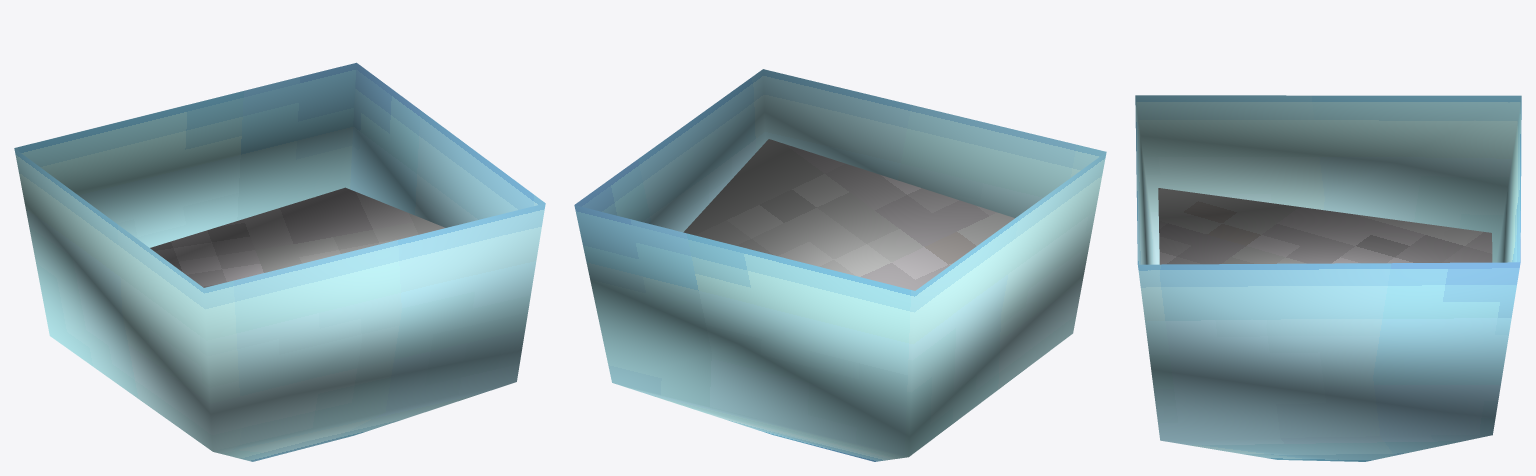
Rendered from eqp_medic_powder_s01_l2.fbx.
The picture shows the model from 3 angles, left to right: view 1: azimuth 30°, elevation 25°; view 2: azimuth 150°, elevation 25°; view 3: azimuth 270°, elevation 25°; orthographic projection.
Visible parts, largest first — view 1: mesh_node; view 2: mesh_node; view 3: mesh_node.
Boxes of the visible parts, bbox=[...] form: mesh_node: bbox=[14, 62, 545, 461]; mesh_node: bbox=[574, 69, 1106, 461]; mesh_node: bbox=[1135, 95, 1521, 461].
Bounding box in the file's own units: 0.1734 × 0.2033 × 0.167.
